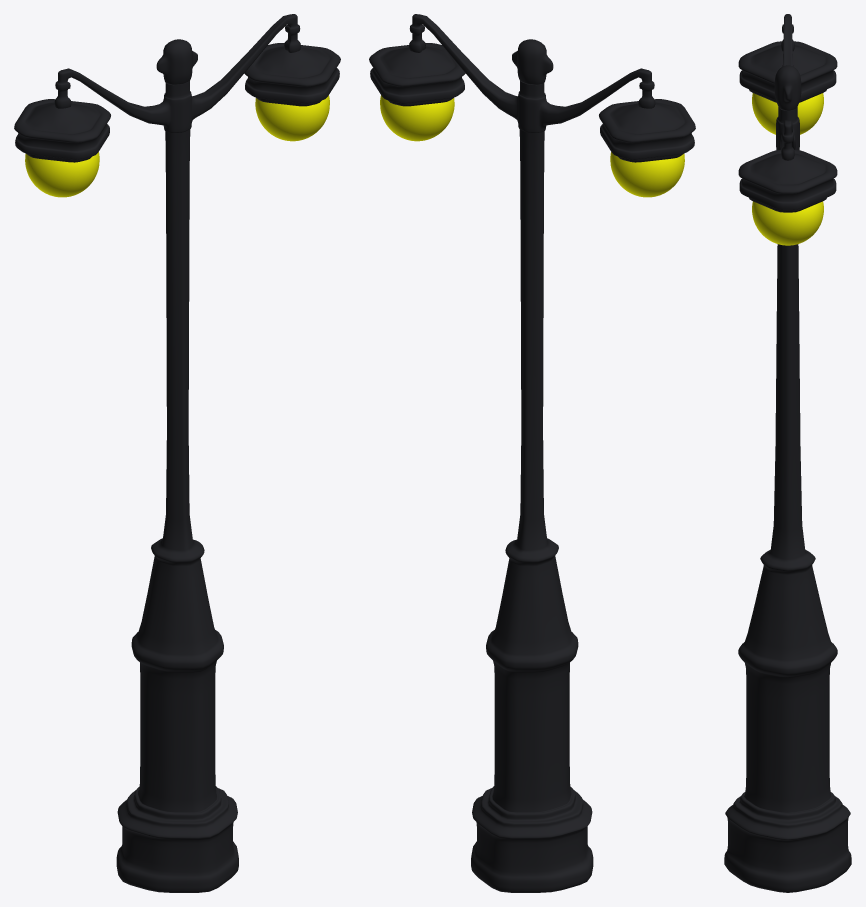
The model's file is Farol_H2.fbx.
The picture shows the model from 3 angles, left to right: view 1: azimuth 30°, elevation 25°; view 2: azimuth 150°, elevation 25°; view 3: azimuth 270°, elevation 25°; orthographic projection. The views are drawn at different scales.
Visible parts, largest first — view 1: pSphere3; view 2: pSphere3; view 3: pSphere3.
Boxes of the visible parts, x1,y1,x2,y2 form: pSphere3: [14, 14, 340, 892]; pSphere3: [369, 14, 695, 892]; pSphere3: [724, 14, 851, 892].
Size of the model in its own units: 10.61 by 26.4 by 3.8.
